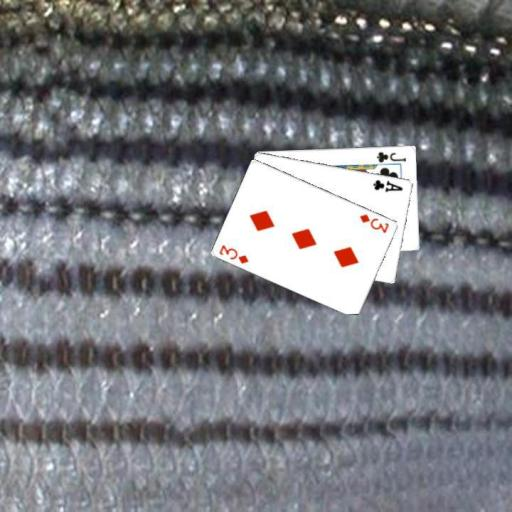3D: (357, 211, 391, 235), (216, 241, 250, 265)
AC: (370, 177, 404, 194)
JC: (374, 148, 408, 163)
